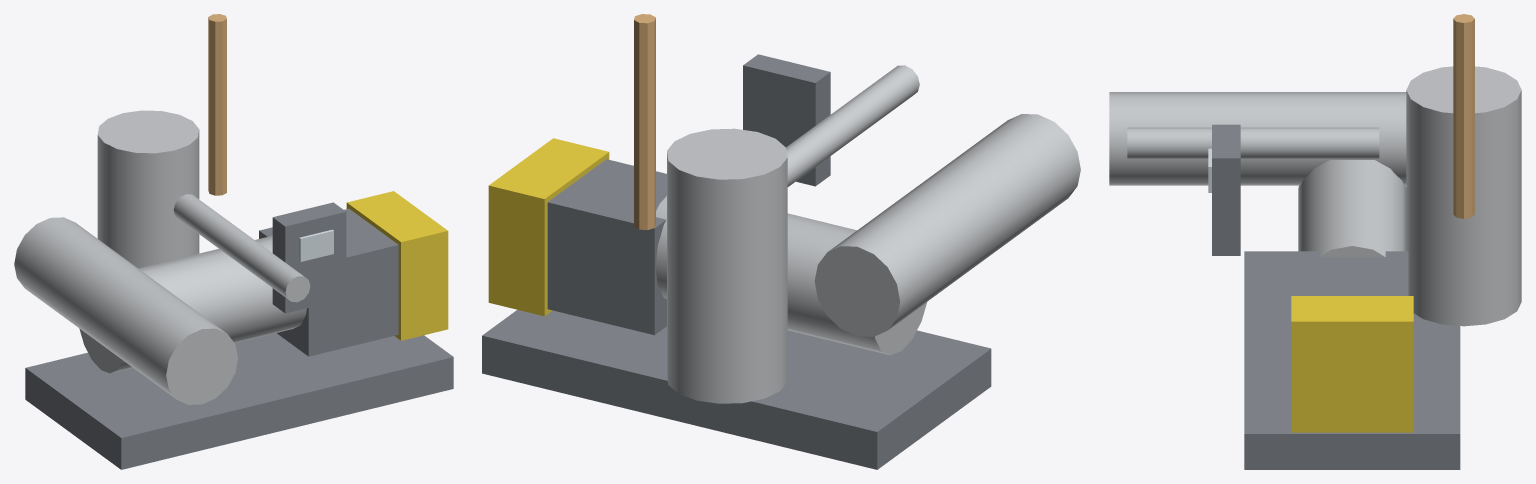
File: SM_COMPRESSOR_SKID.fbx
3 views of the same model, side by side, from view 1: azimuth 30°, elevation 25°; view 2: azimuth 150°, elevation 25°; view 3: azimuth 270°, elevation 25° (orthographic). The views are drawn at different scales.
Visible parts, largest first — view 1: SM_COMPRESSOR_SKID; view 2: SM_COMPRESSOR_SKID; view 3: SM_COMPRESSOR_SKID.
Boxes of the visible parts, x1,y1,x2,y2 form: SM_COMPRESSOR_SKID: (14,14,453,469); SM_COMPRESSOR_SKID: (482,14,1080,469); SM_COMPRESSOR_SKID: (1109,14,1521,469).
Bounding box in the file's own units: 262 × 230 × 229.
